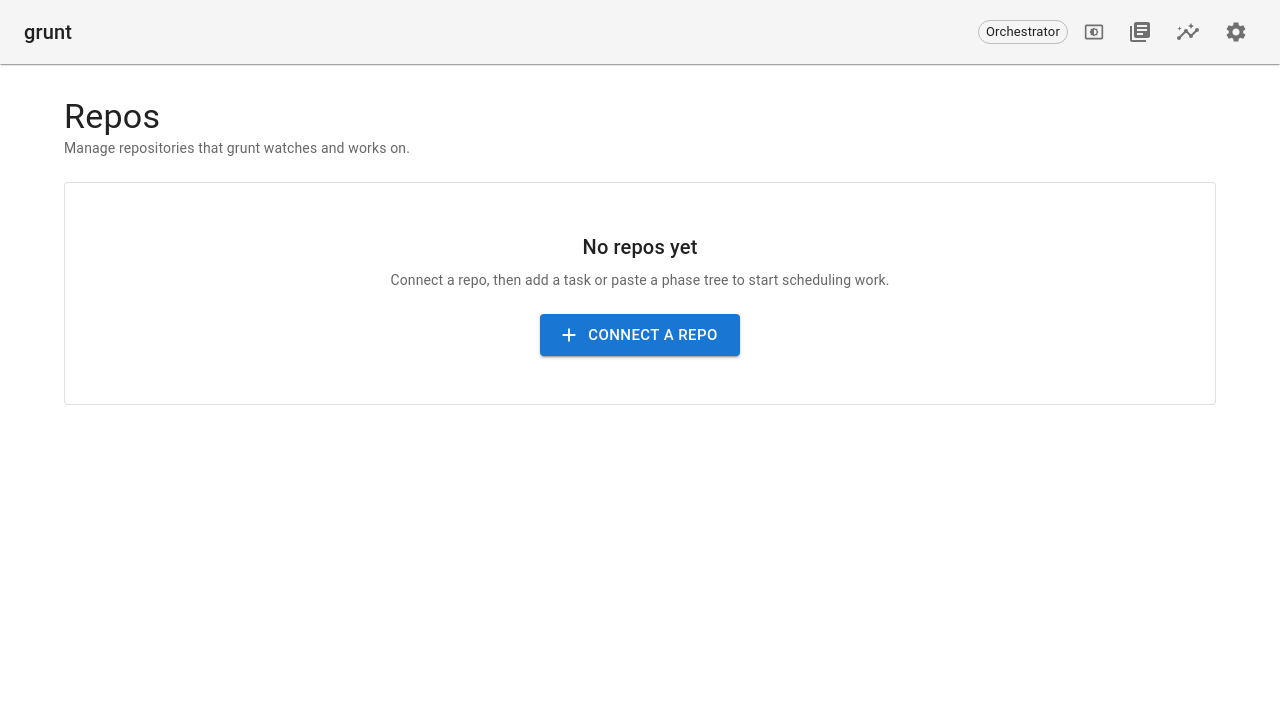
Test case: UsageDashboard › renders weekly usage, the cap, and the percent of cap consumed — the page's primary at-a-glance summary (acceptance #1164)
The width and height of the screenshot is (1280, 720).
Click the button with test id "usage-button" at (1188, 32), box [1168,12,1208,52]
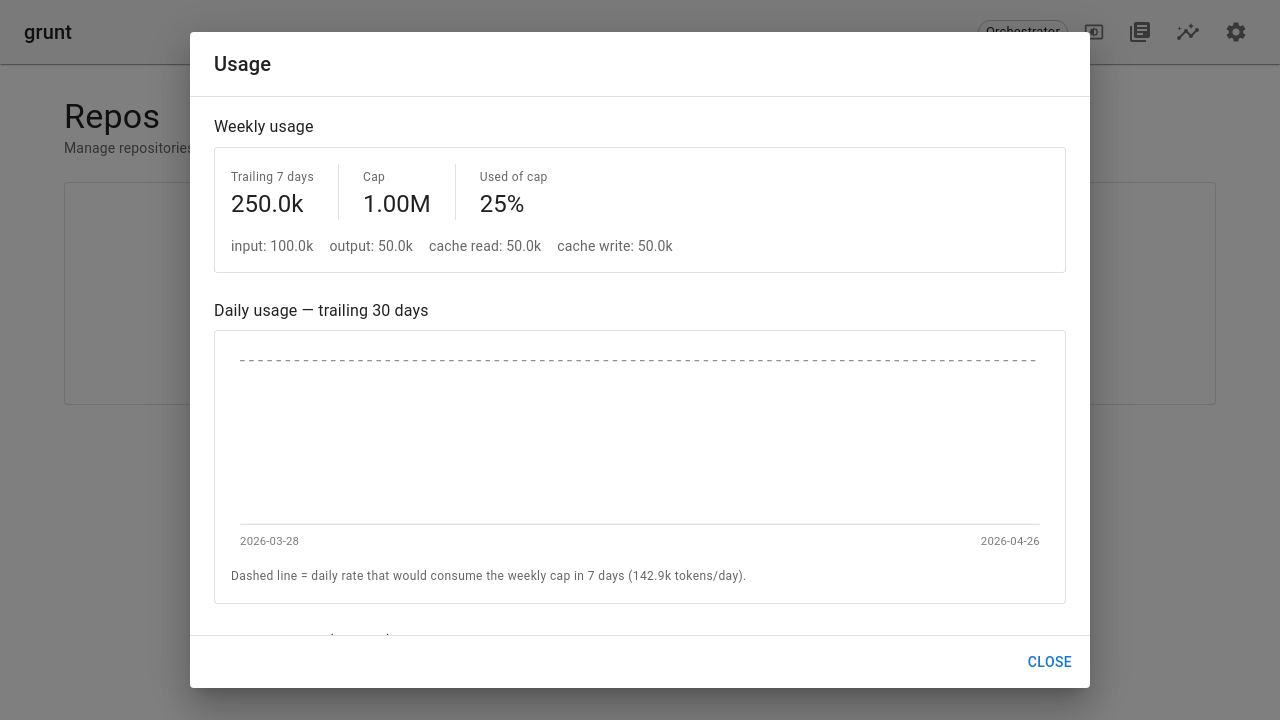
Result: the element with test id "usage-weekly-card" is shown at [214,147,1066,273]
Result: the heading with test id "usage-weekly-pct" reads "25%" at [480,190,524,218]
